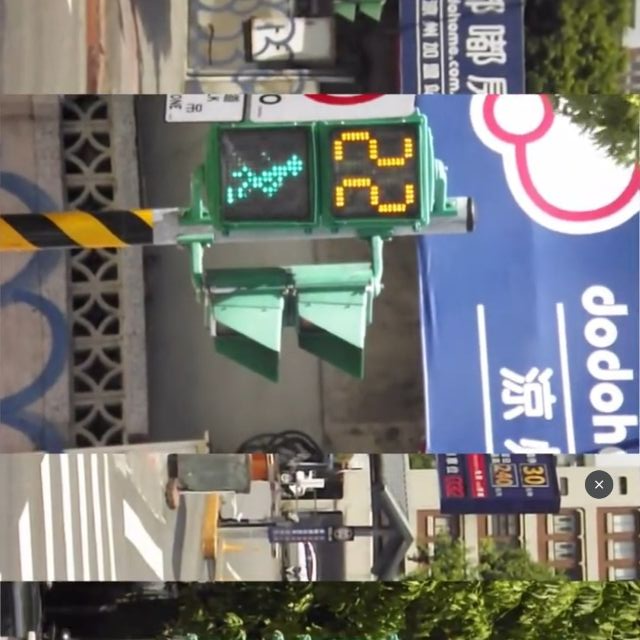green_light: (211, 125, 429, 227)
